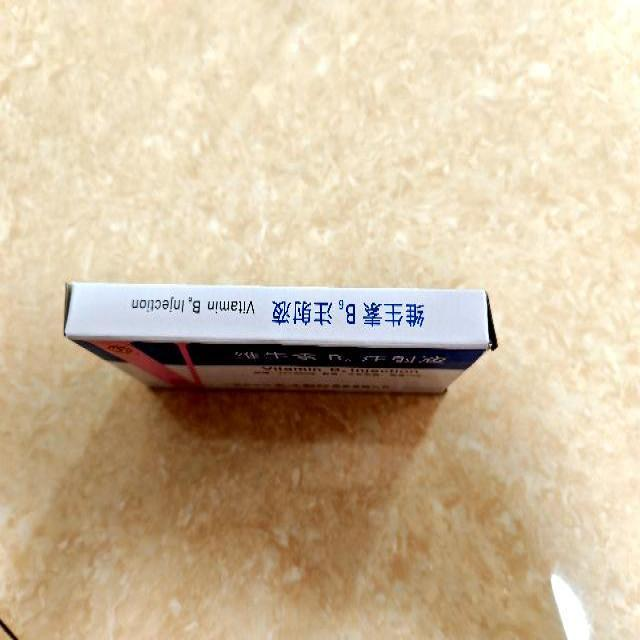box: (61, 280, 498, 395)
